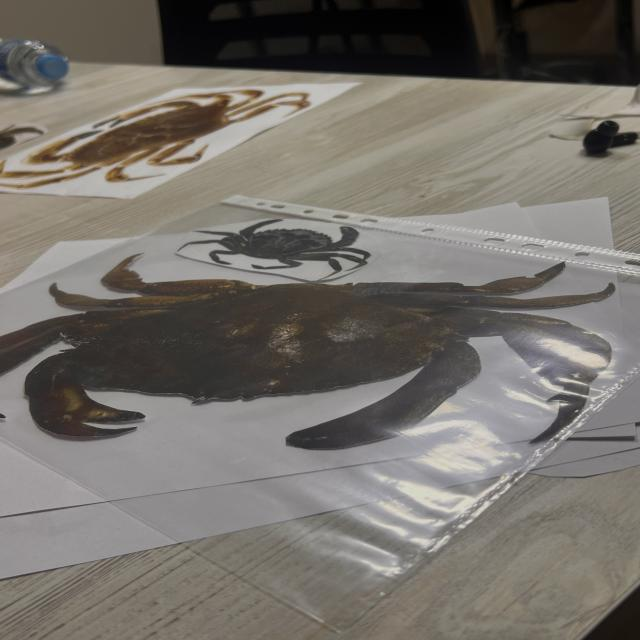European_Green_Crab: (175, 199, 379, 289)
